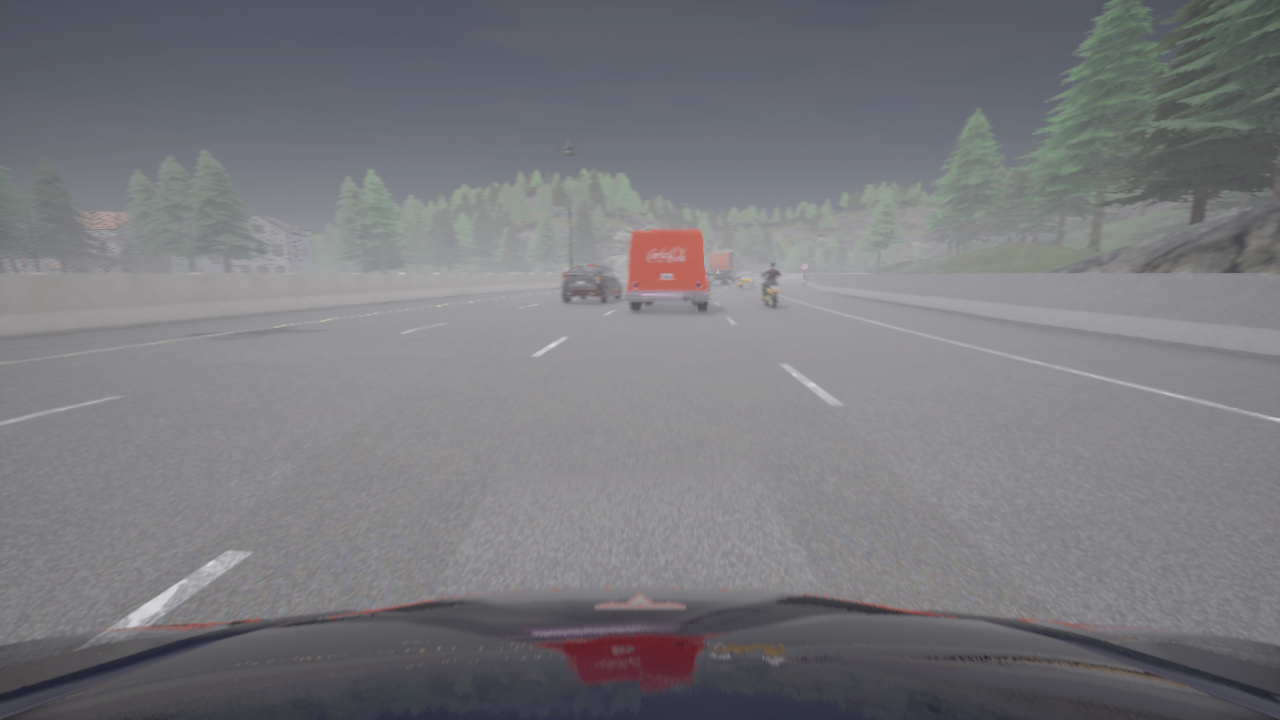cyclist: (0, 588, 1279, 719), (626, 230, 709, 311), (561, 266, 621, 303), (705, 251, 738, 284), (763, 277, 780, 309), (737, 271, 755, 288)
